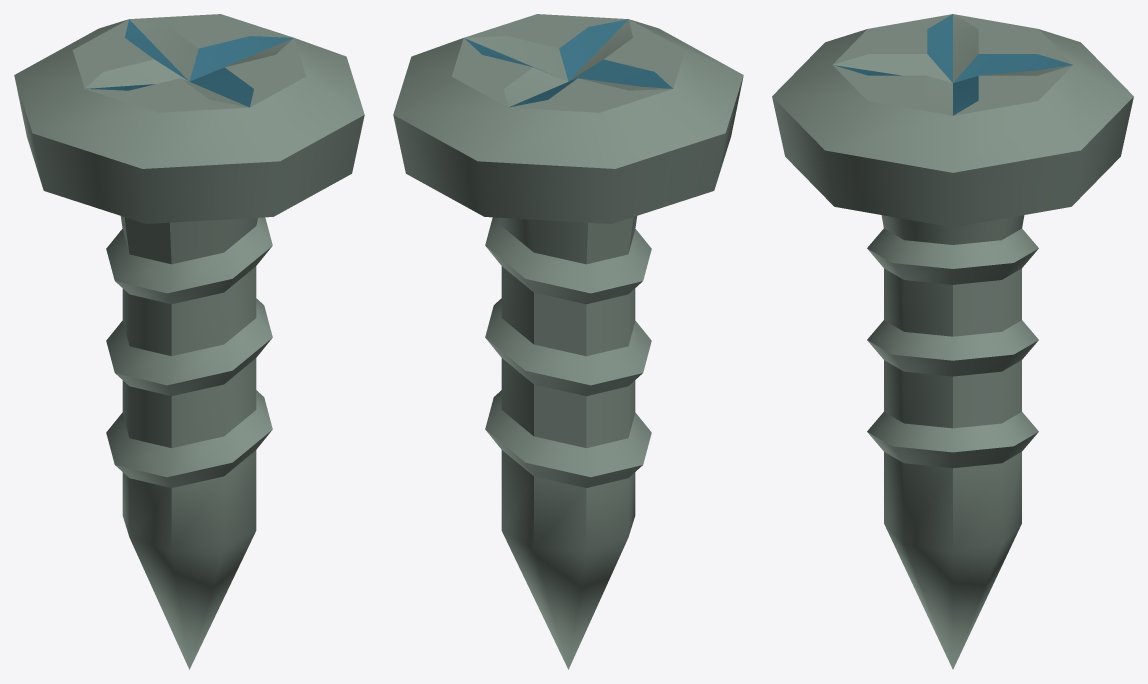
File: itch_kaykit_rpg_tools_screw_b.glb
3 renders of one model, left to right at view 1: azimuth 30°, elevation 25°; view 2: azimuth 150°, elevation 25°; view 3: azimuth 270°, elevation 25°, orthographic.
Visible parts, largest first — view 1: screw_B; view 2: screw_B; view 3: screw_B.
Boxes of the visible parts, x1,y1,x2,y2 form: screw_B: [14, 14, 364, 669]; screw_B: [393, 14, 743, 669]; screw_B: [772, 14, 1133, 669].
Bounding box in the file's own units: 0.42 × 0.7746 × 0.42.
